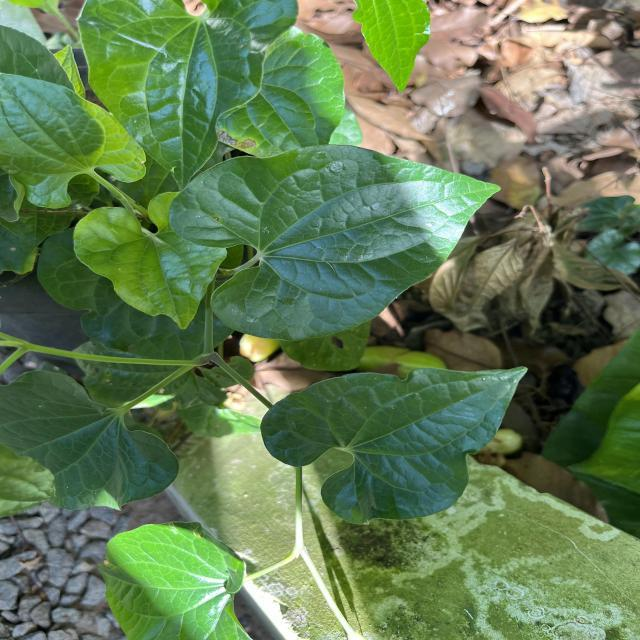Piper longum: (166, 140, 504, 344), (257, 362, 531, 528), (70, 188, 230, 332)
